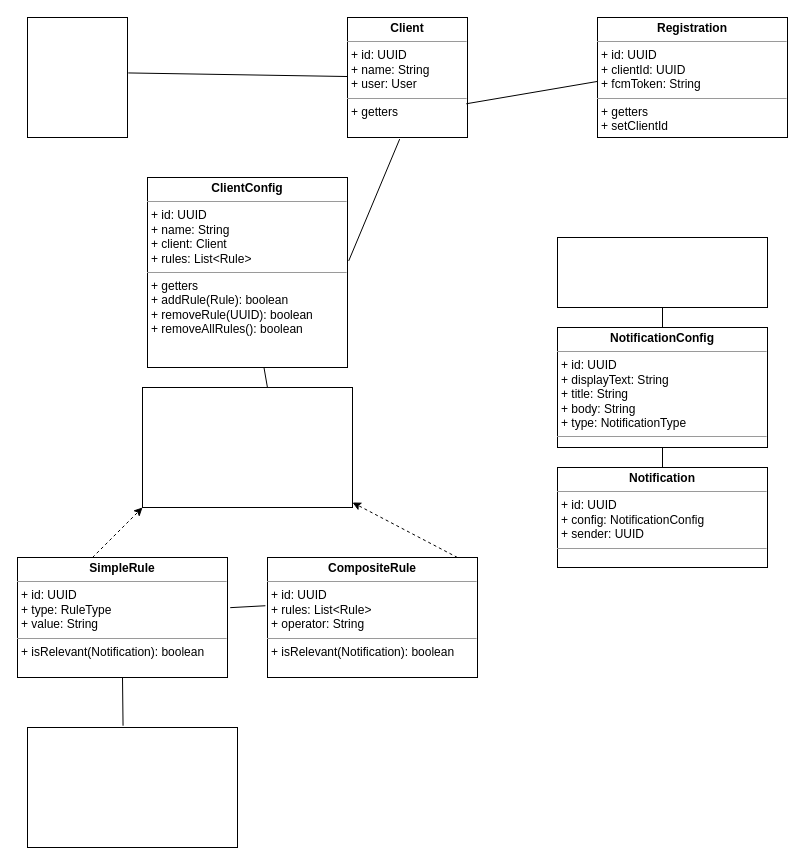
Image size: 805x865. Some labels were removed from this diagram. The shapes that lost their labels are listed below. From the top down, each one's centre as x and y in pixels, then its label:
(77,77): User + id: UUID + name: String + getters
(662,272): NotificationType + id: UUID + name: String
(247,447): << interface >> Rule + isRelevant(Notification): boolean
(132,787): << enum >> RuleType + BY_SENDER + BY_TYPE + BY_NOTIFICATION
